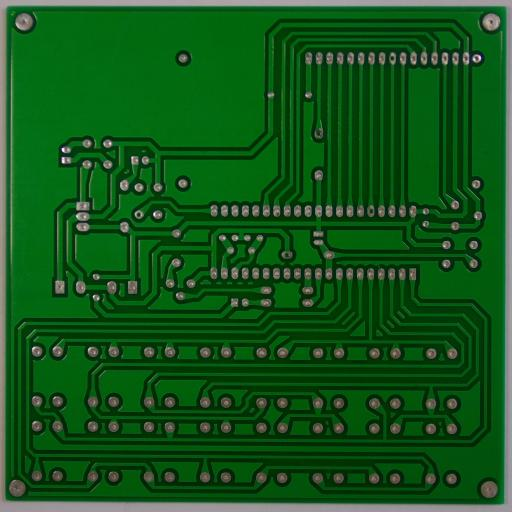missing_hole: (280, 249, 294, 261), (313, 127, 325, 140), (365, 205, 377, 218), (386, 52, 398, 64), (134, 209, 145, 221)
